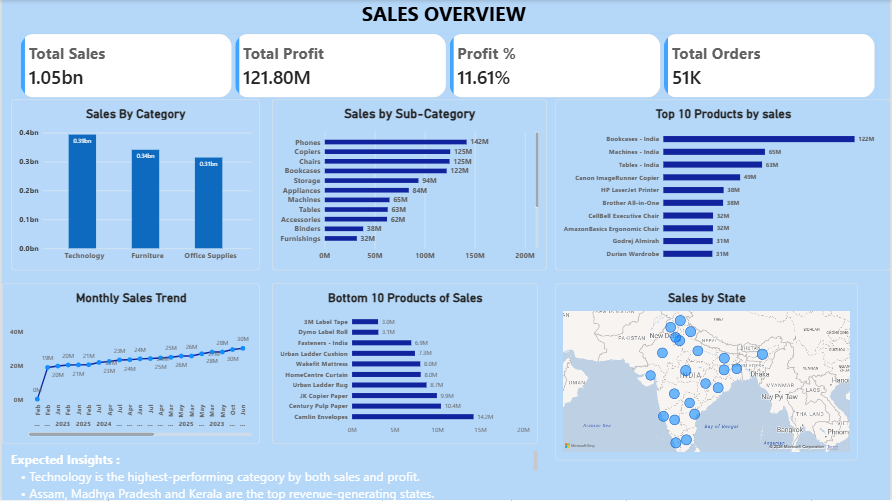

The dashboard page shown, as its layout file describes it:
{"tool":"powerbi","page":{"name":"SALES OVERVIEW","canvas":[1920,1080],"ordinal":0},"visuals":[{"type":"cardVisual","title":"SALES OVERVIEW","fields":{"Data":["Orders.Total Sales","Orders.Total Profit","Orders.Profit %","Orders.Total Orders"]},"box":[39.1,71.7,1850,141.3],"z":0},{"type":"clusteredColumnChart","title":" Sales By Category","fields":{"Category":["Orders.Category"],"Y":["Orders.Total Sales"]},"box":[19.6,213,537,369.6],"z":1000},{"type":"clusteredBarChart","title":"Sales by Sub-Category","fields":{"Category":["Orders.Sub-Category"],"Y":["Orders.Total Sales"]},"box":[582.6,213,593.5,369.6],"z":2000},{"type":"lineChart","title":"Monthly Sales Trend","fields":{"Category":["DateTable.Year","DateTable.Month"],"Y":["Orders.Total Sales"]},"box":[0,610.9,556.5,347.8],"z":3000},{"type":"map","title":"Sales by State","fields":{"Category":["Orders.State"],"Size":["Orders.Total Sales"]},"box":[1193.5,610.9,654.3,382.6],"z":4000},{"type":"clusteredBarChart","title":"Top 10 Products by sales","fields":{"Category":["Orders.Product Name"],"Y":["Sum(Orders.Sales)"]},"box":[1193.5,213,726.1,369.6],"z":5000},{"type":"clusteredBarChart","title":"Bottom 10 Products of Sales","fields":{"Category":["Orders.Product Name"],"Y":["Sum(Orders.Sales)"]},"box":[582.6,610.9,573.9,347.8],"z":6000},{"type":"textbox","box":[1613,63,307,150],"z":7000},{"type":"textbox","box":[100,100,300,300],"z":8000},{"type":"textbox","box":[19.6,0,1869.6,63],"z":9000},{"type":"textbox","box":[19.6,973.9,1137,106.5],"z":10000}]}

Visuals, with their boxes in screenshot pixels (x1, y1, x2, y2), scaled from the page's 1920x1080 canvas onto the 892x501 screenshot:
"SALES OVERVIEW" cardVisual: (left=18, top=33, right=878, bottom=99)
" Sales By Category" clusteredColumnChart: (left=9, top=99, right=259, bottom=270)
"Sales by Sub-Category" clusteredBarChart: (left=271, top=99, right=546, bottom=270)
"Monthly Sales Trend" lineChart: (left=0, top=283, right=259, bottom=445)
"Sales by State" map: (left=554, top=283, right=858, bottom=461)
"Top 10 Products by sales" clusteredBarChart: (left=554, top=99, right=891, bottom=270)
"Bottom 10 Products of Sales" clusteredBarChart: (left=271, top=283, right=537, bottom=445)
textbox: (left=749, top=29, right=891, bottom=99)
textbox: (left=46, top=46, right=186, bottom=186)
textbox: (left=9, top=0, right=878, bottom=29)
textbox: (left=9, top=452, right=537, bottom=500)
